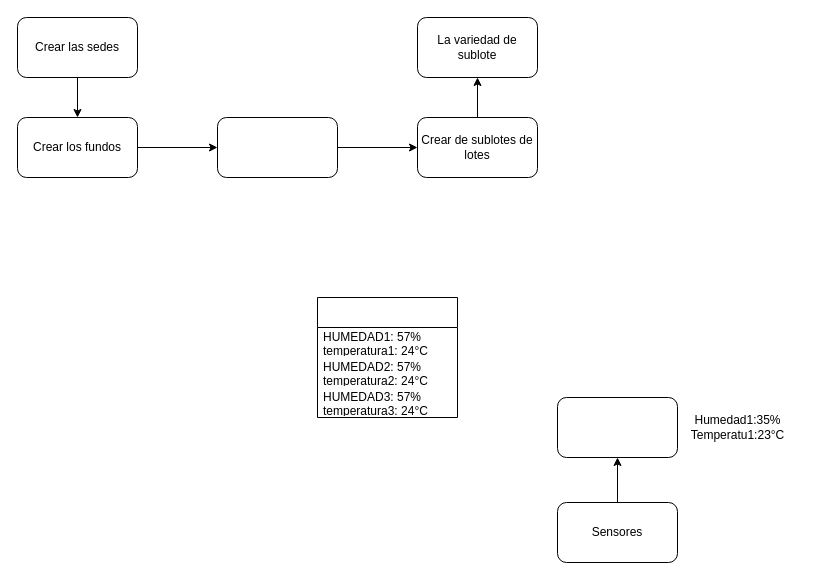
The diagram is 815 pixels wide and 580 high, and some of its shapes have lost their labels. Here are the shapes that lost their labels. From the top down, the box of each, then its label:
(216, 116, 338, 178): Crear lotes de fundos
(316, 296, 458, 418): LECTURAS
(556, 396, 678, 458): DetalleSensores
